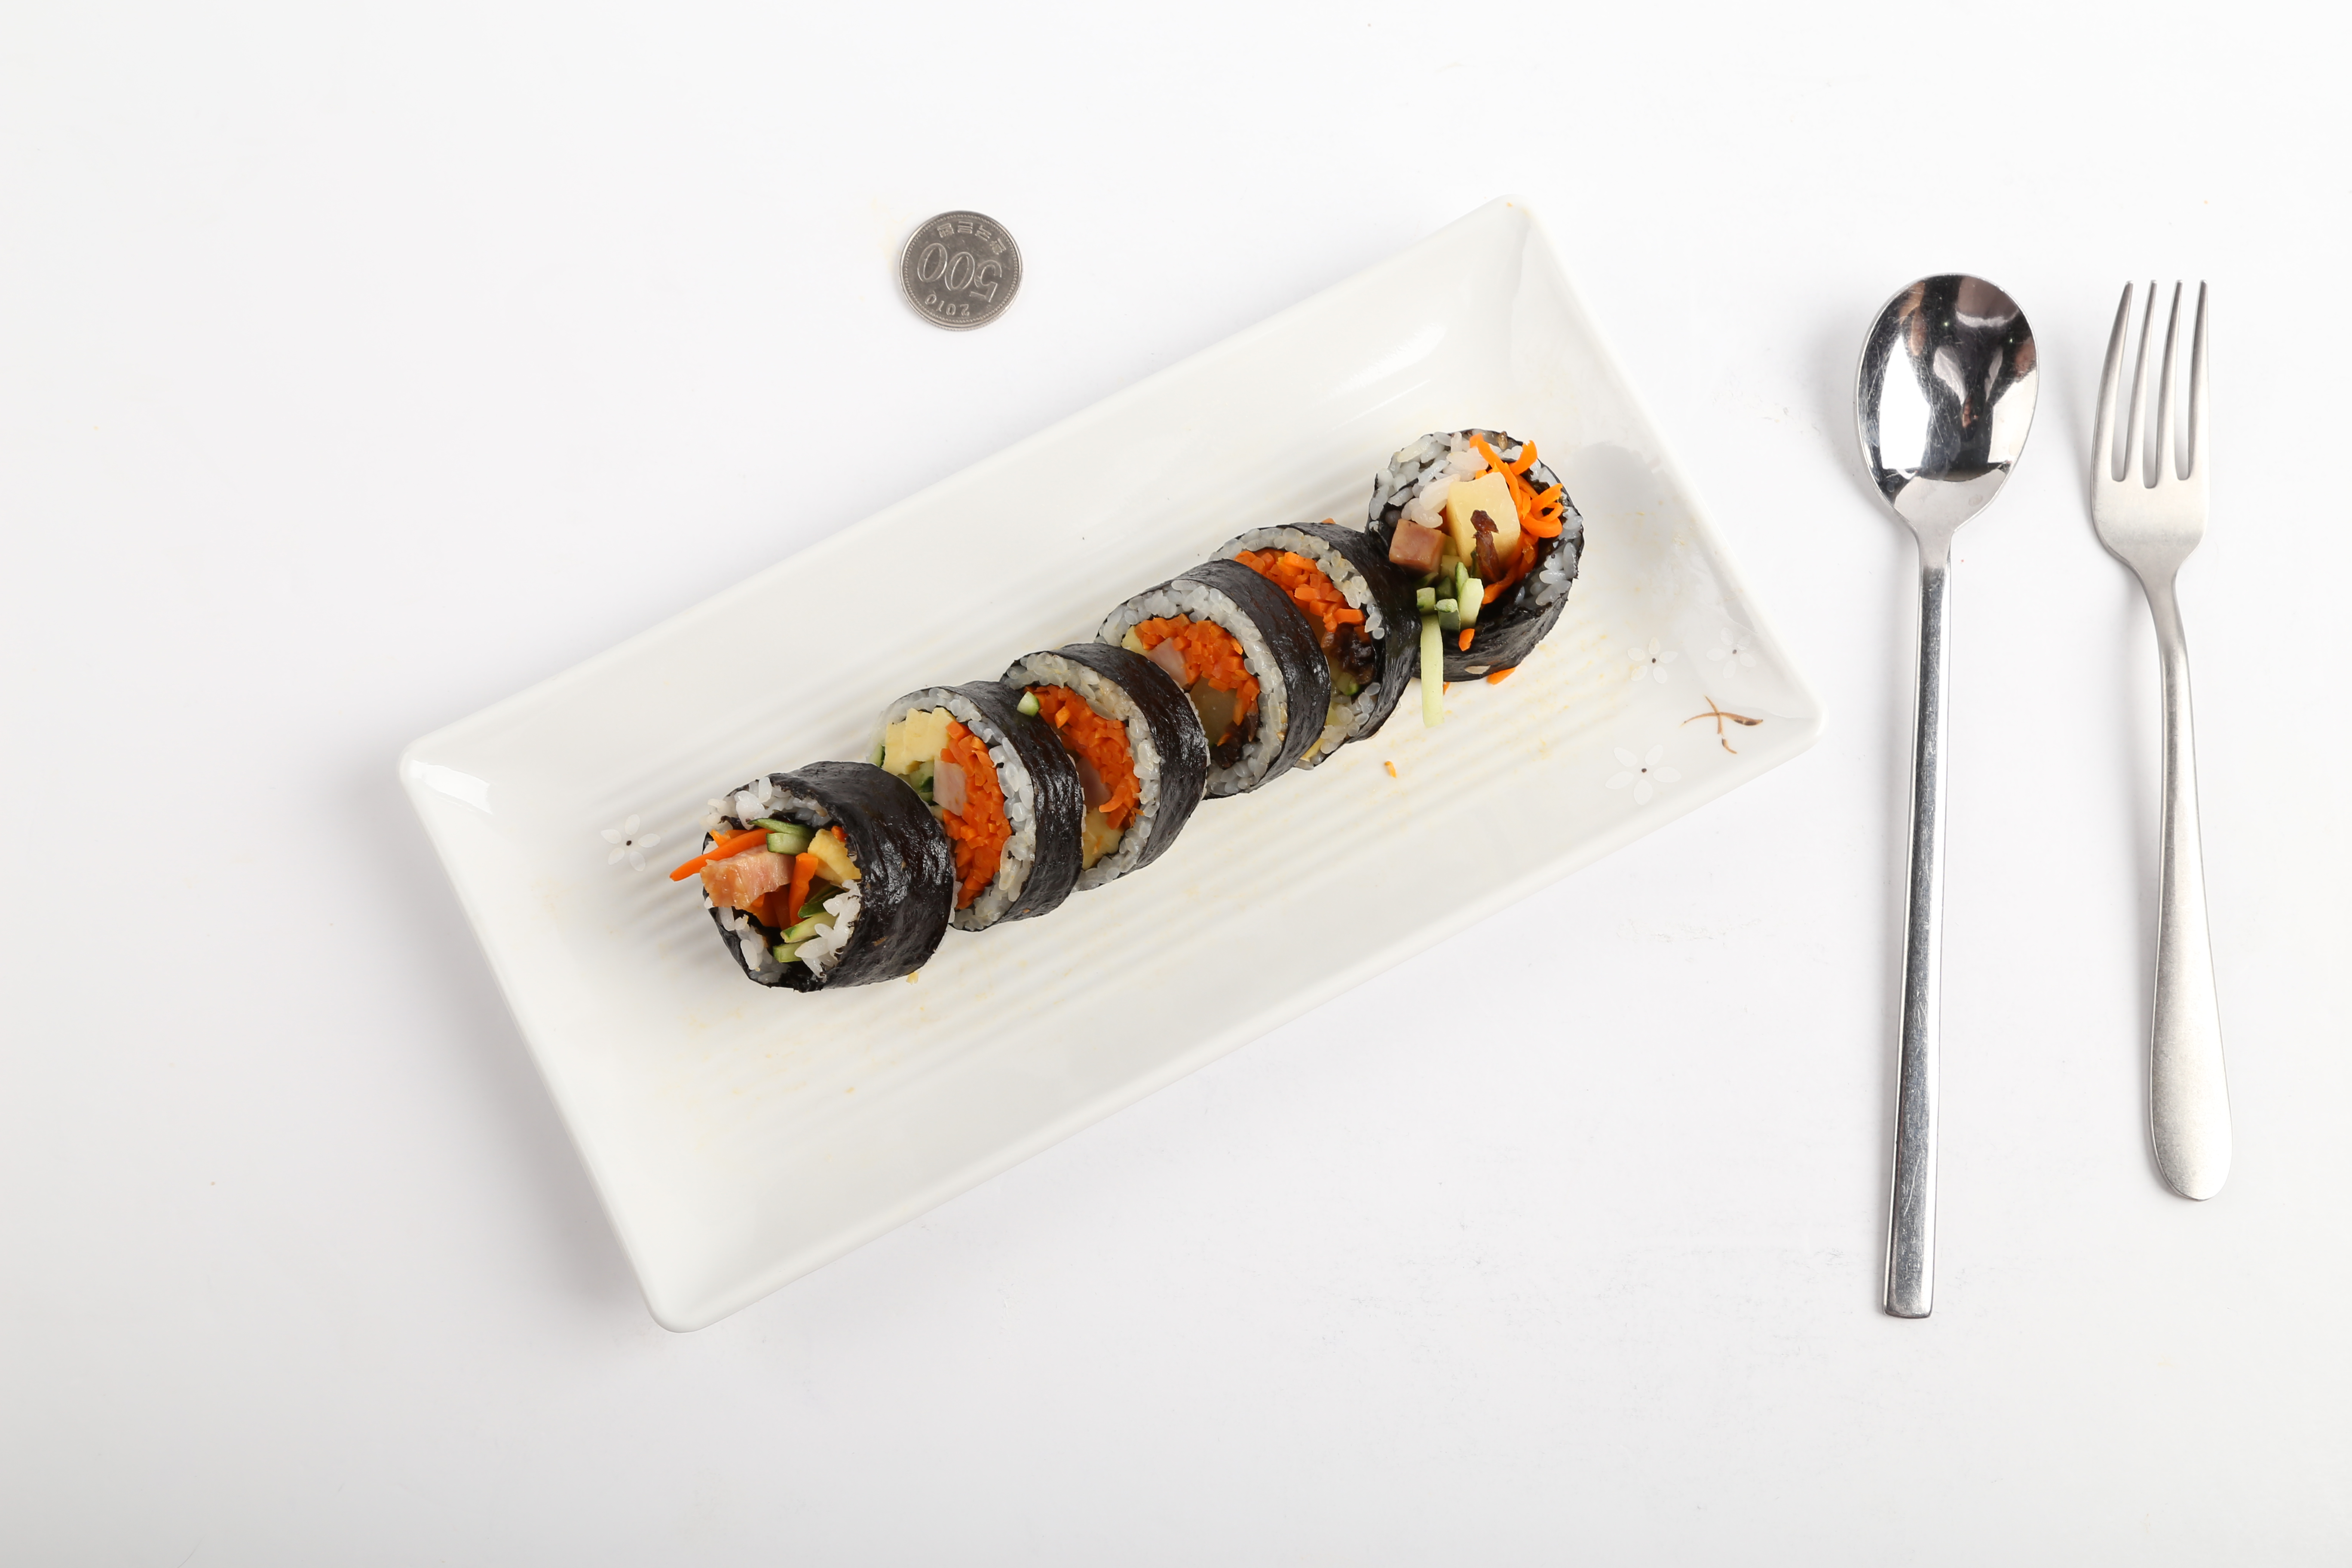dish: (408, 213, 1797, 1330)
ref_coin: (891, 206, 1025, 332)
ref_fork: (2086, 273, 2221, 619)
ref_spoon: (1846, 269, 2040, 591)
김밥: (695, 425, 1589, 989)
